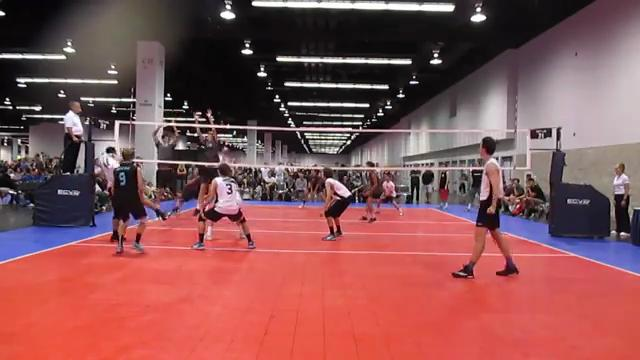attacco: (94, 142, 179, 237)
muro: (149, 114, 186, 223), (188, 104, 221, 221)
